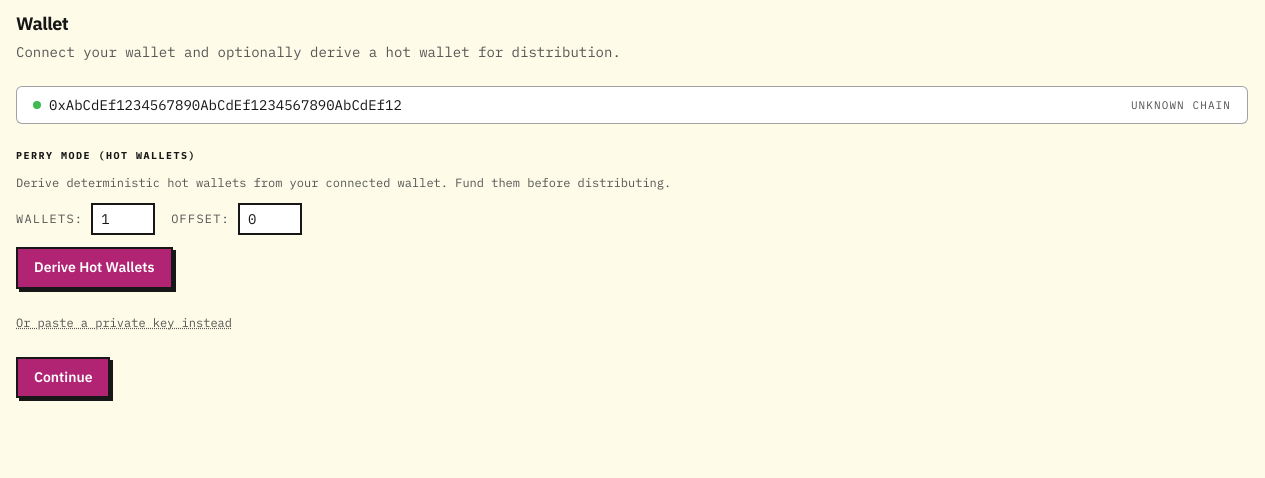
Test case: WalletStep › shows error when derive fails
Click the button "Derive Hot Wallets" at [94, 268], box top-left (16, 247), bottom-right (172, 288)
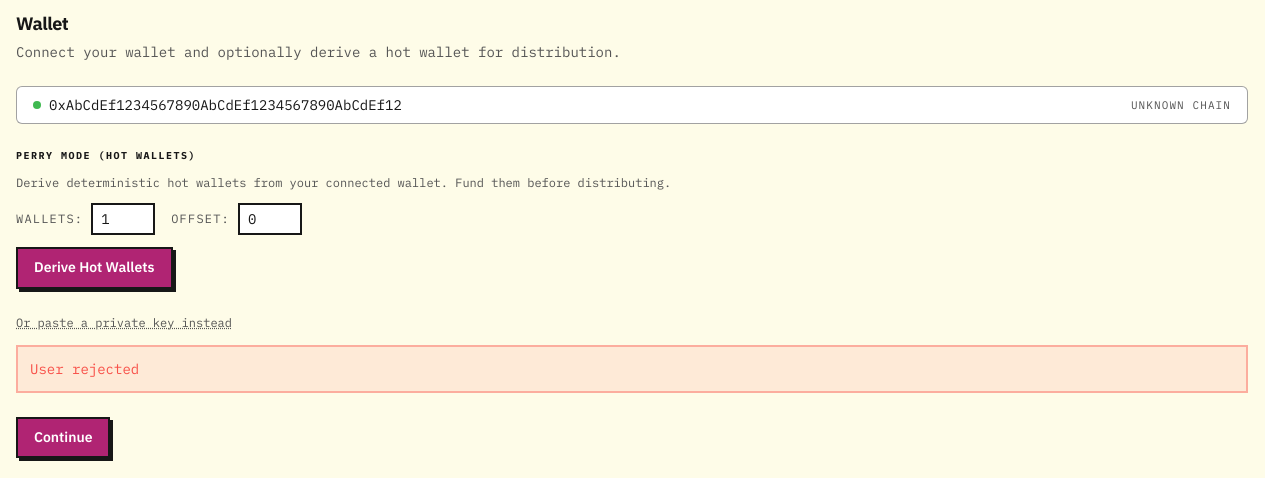
expect the text "User rejected" is shown: met, box top-left (16, 344), bottom-right (1248, 392)
